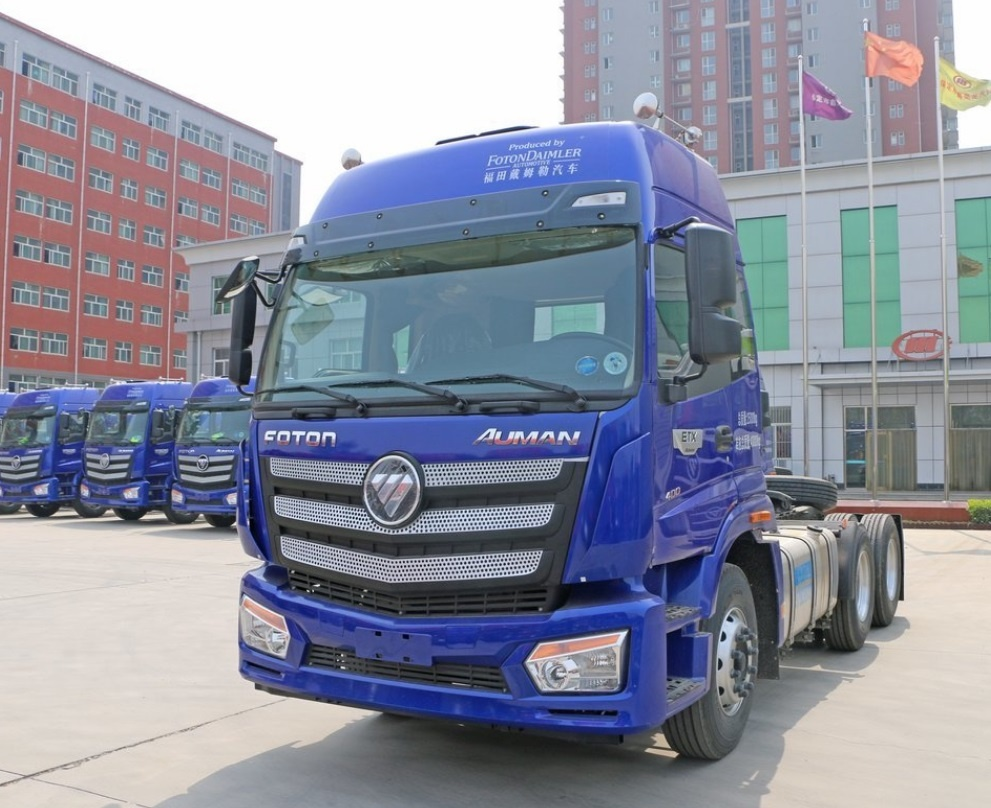heavy truck: (228, 112, 918, 741), (82, 372, 177, 524), (170, 382, 251, 535), (4, 388, 82, 512)
